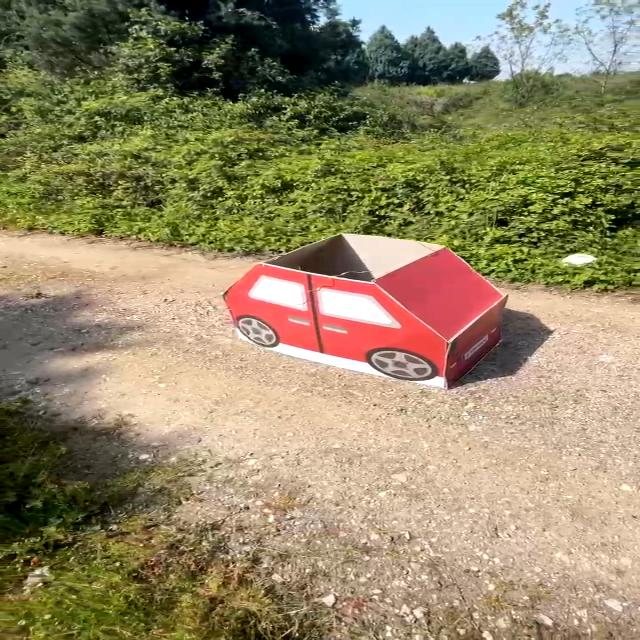red_car: (204, 224, 546, 398)
